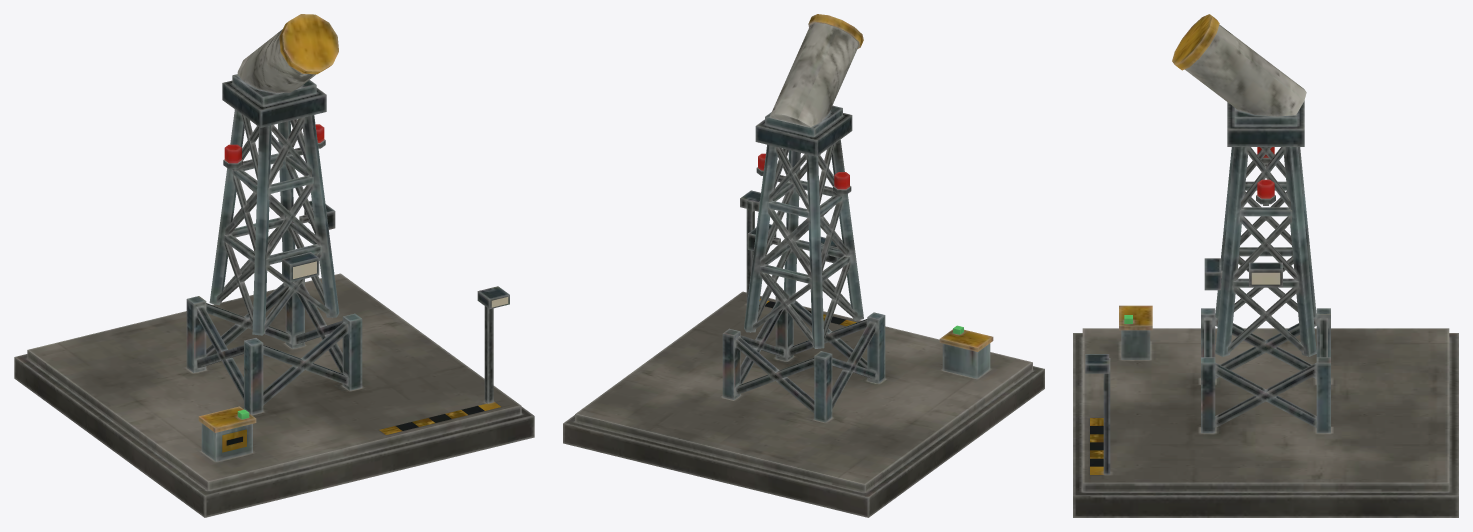
Rendered from telescope_module.glb.
The picture shows the model from 3 angles, left to right: view 1: azimuth 30°, elevation 25°; view 2: azimuth 150°, elevation 25°; view 3: azimuth 270°, elevation 25°; orthographic projection. The views are drawn at different scales.
Visible parts, largest first — view 1: te_telescope_module, move_scope; view 2: te_telescope_module, move_scope; view 3: te_telescope_module, move_scope.
Boxes of the visible parts, left/top/right/bottom form: te_telescope_module: left=14, top=80, right=534, bottom=517; move_scope: left=232, top=14, right=338, bottom=106; te_telescope_module: left=563, top=113, right=1044, bottom=517; move_scope: left=765, top=14, right=863, bottom=136; te_telescope_module: left=1073, top=100, right=1458, bottom=517; move_scope: left=1172, top=14, right=1306, bottom=126.
Bounding box in the file's own units: 0.8 × 0.9584 × 0.8.
Materials: 1 (1 with a texture image).
